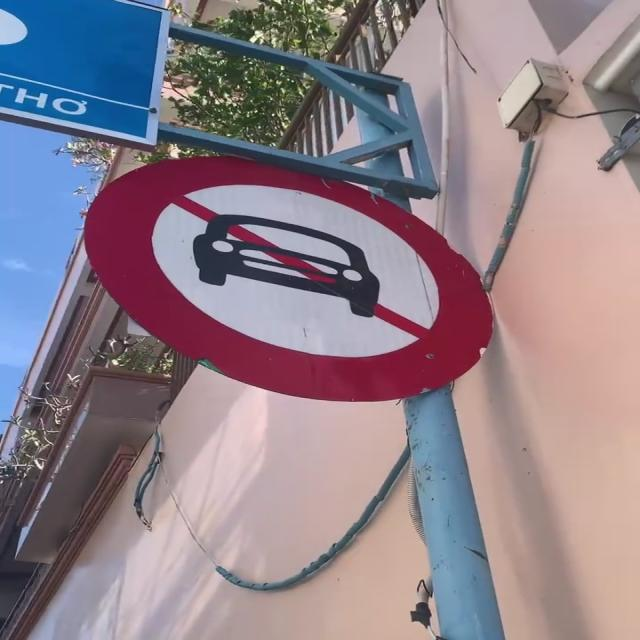Cam_O_To: (82, 148, 493, 407)
